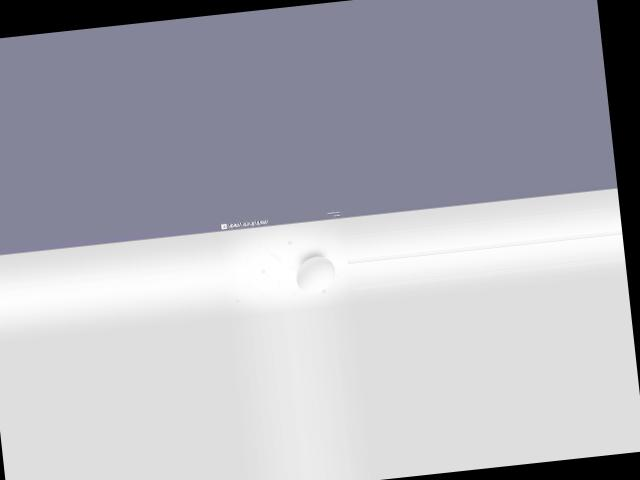egg: (295, 254, 338, 293)
